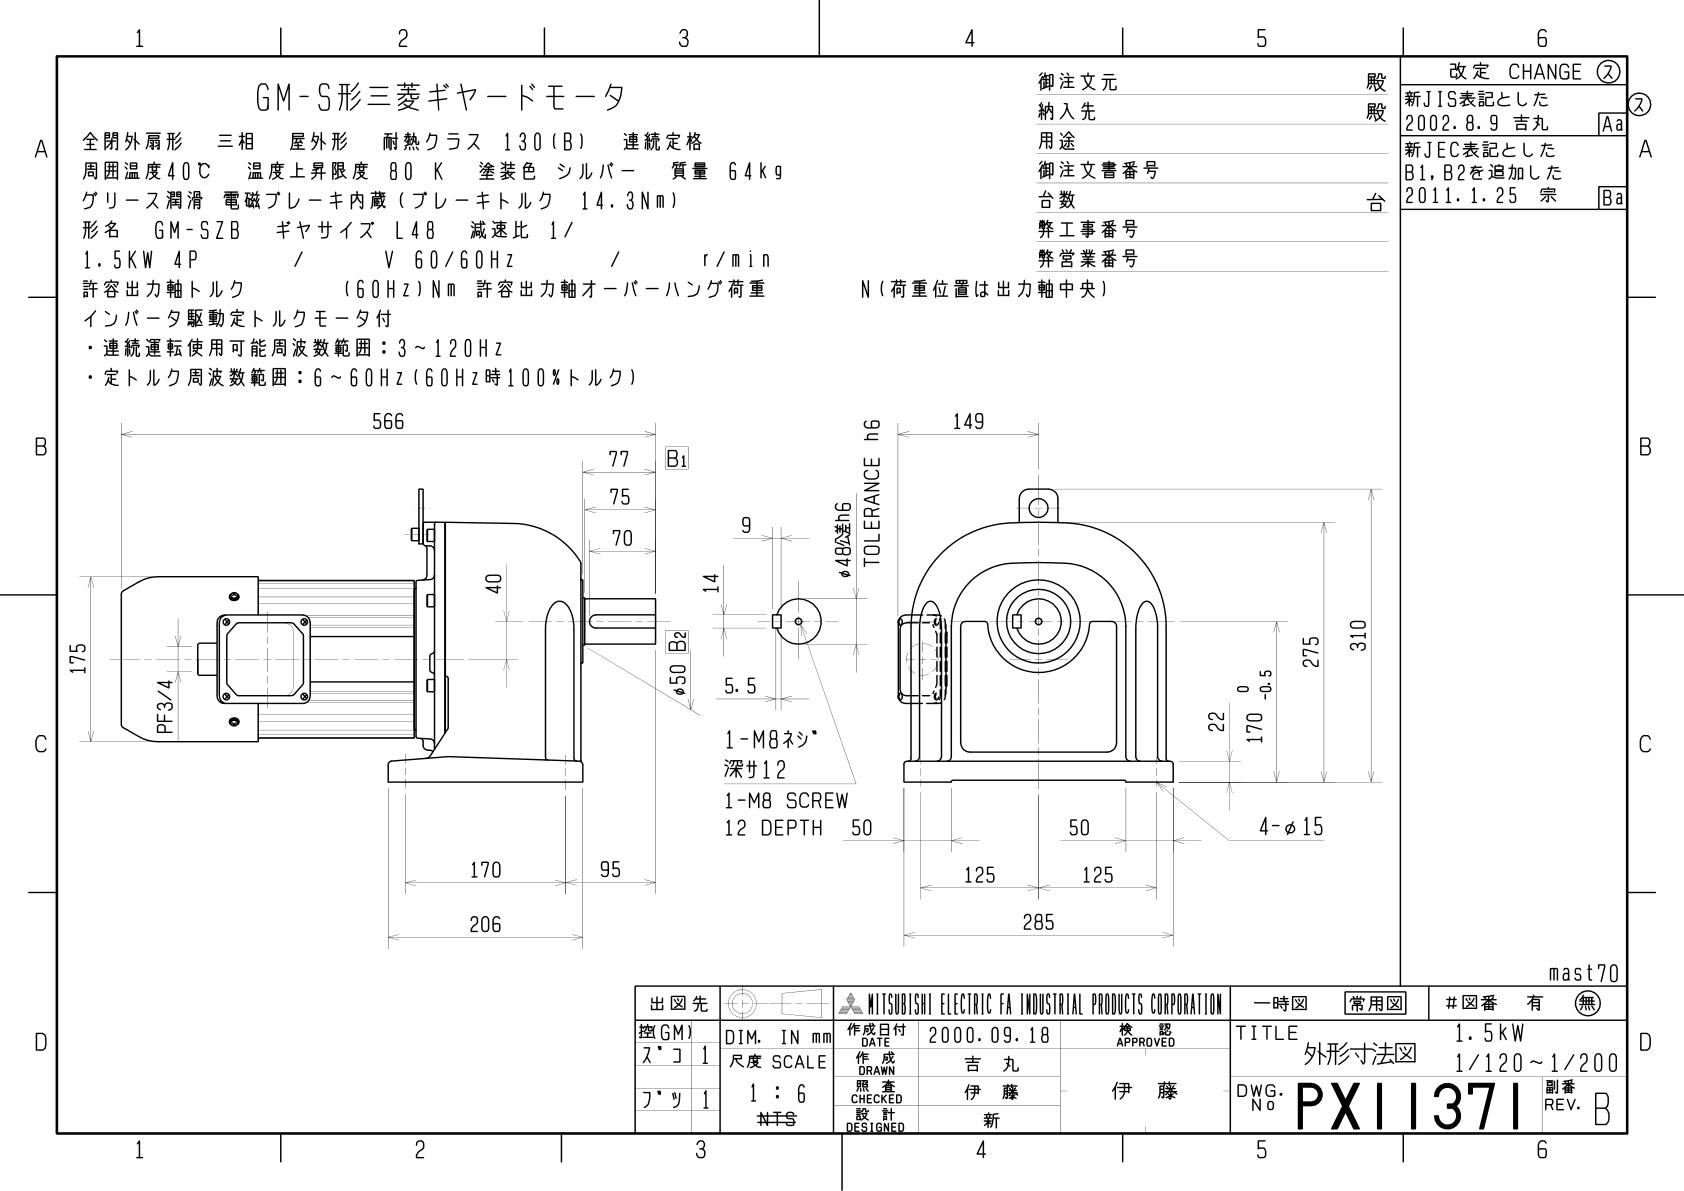GM_S_インバタ屋外＿三相_脚: (54, 396, 1392, 959)
